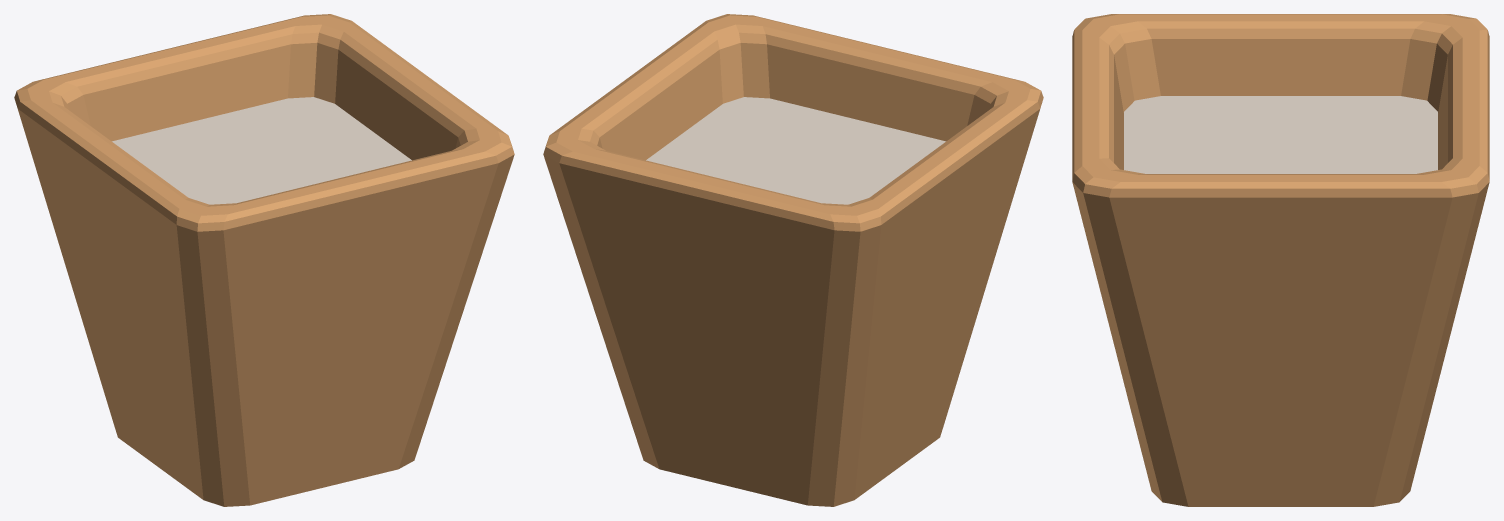
Rendered from FlowerPot.fbx.
3 views of the same model, side by side, from view 1: azimuth 30°, elevation 25°; view 2: azimuth 150°, elevation 25°; view 3: azimuth 270°, elevation 25° (orthographic). The views are drawn at different scales.
Parts seen in each view (by area): view 1: Pot, WetDirt; view 2: Pot, WetDirt; view 3: Pot, WetDirt.
Boxes of the visible parts, left/top/right/bottom form: Pot: left=14, top=14, right=514, bottom=506; WetDirt: left=112, top=97, right=411, bottom=204; Pot: left=543, top=14, right=1043, bottom=506; WetDirt: left=646, top=97, right=945, bottom=204; Pot: left=1072, top=14, right=1489, bottom=506; WetDirt: left=1124, top=96, right=1437, bottom=173.
Bounding box in the file's own units: 26.72 × 25.02 × 26.72.
